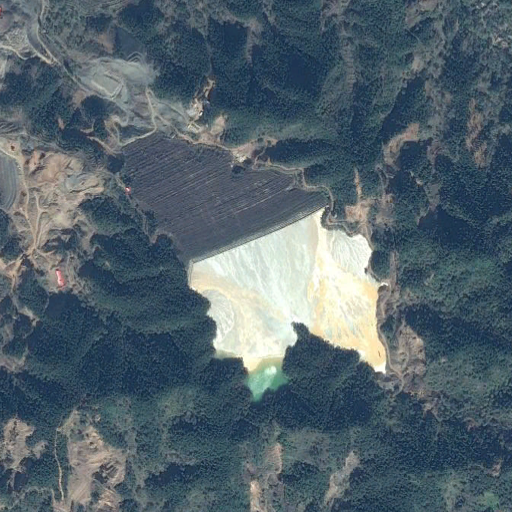tp: (123, 131, 388, 400)
